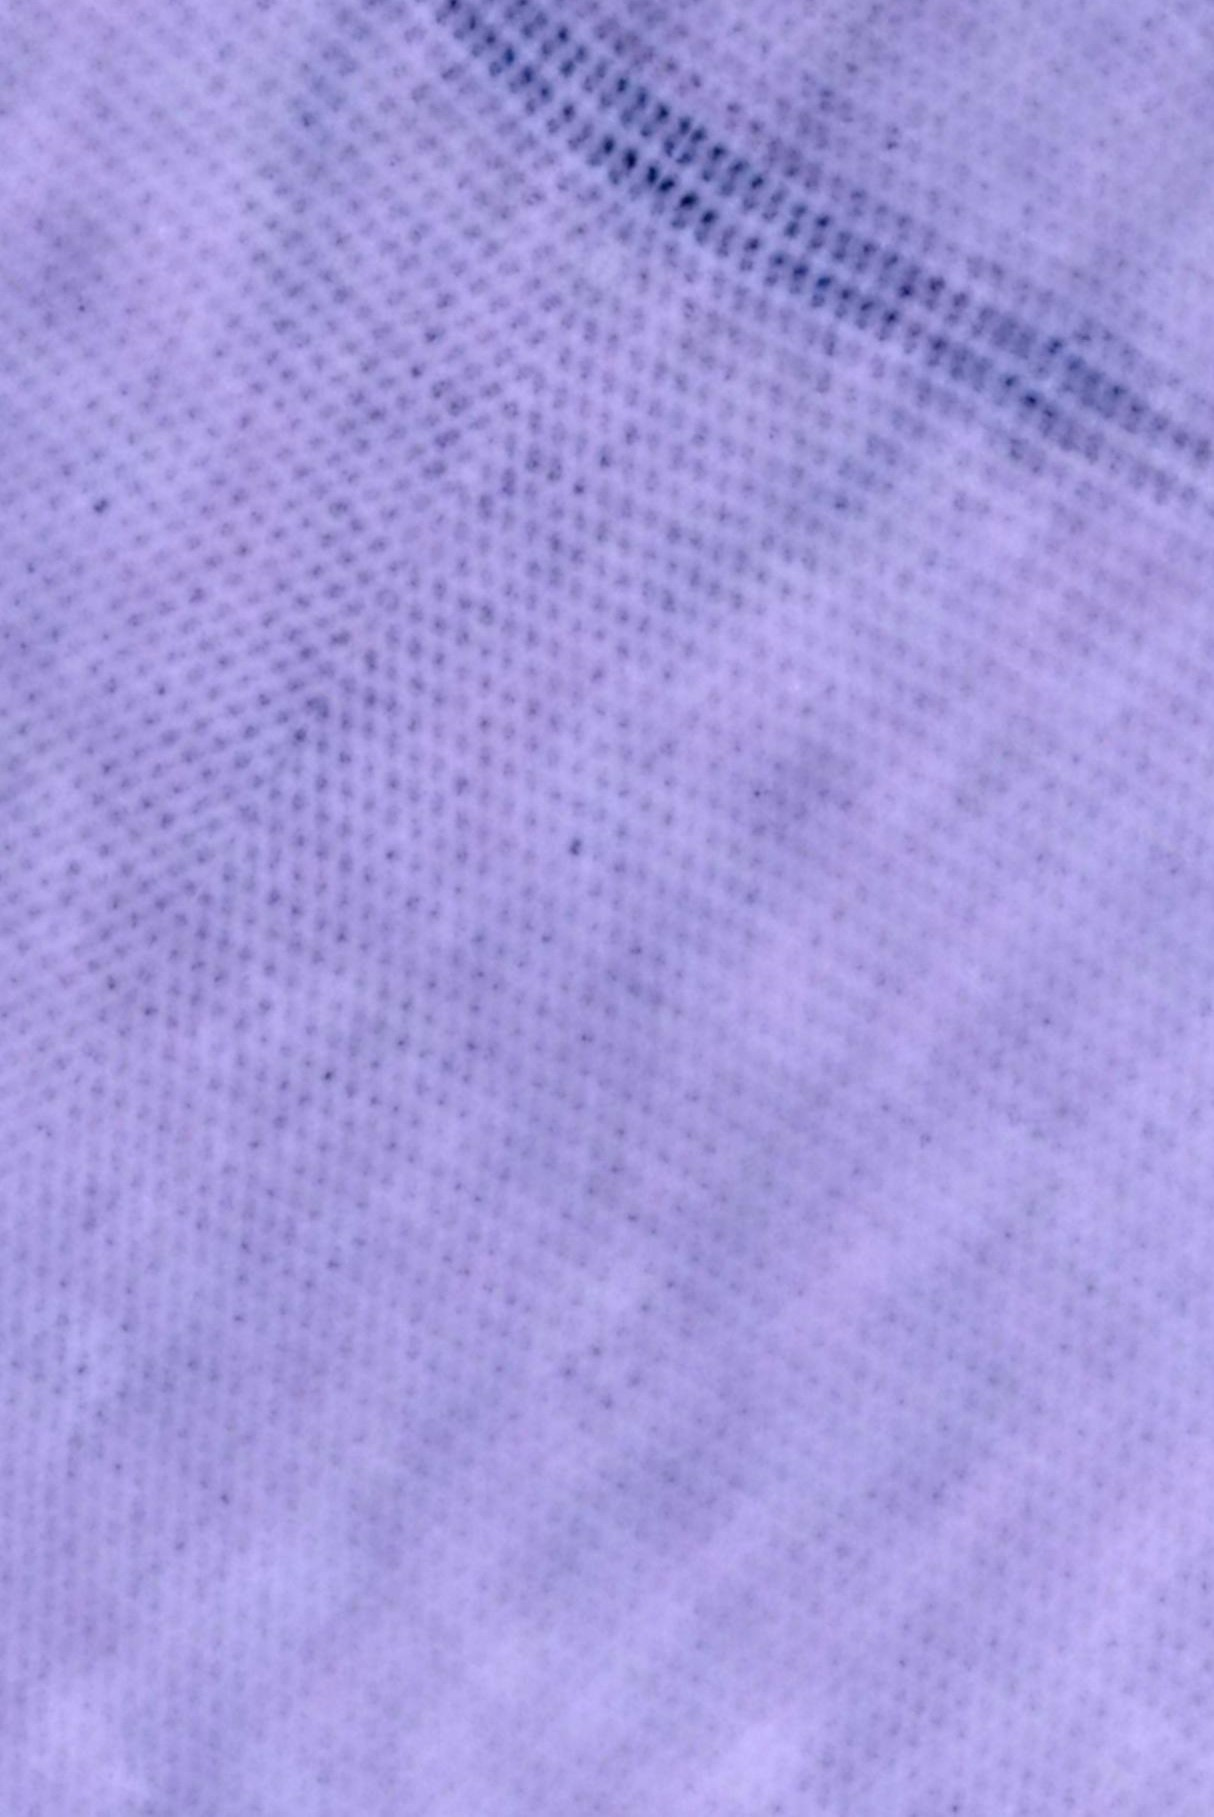slub: (409, 0, 1207, 549)
